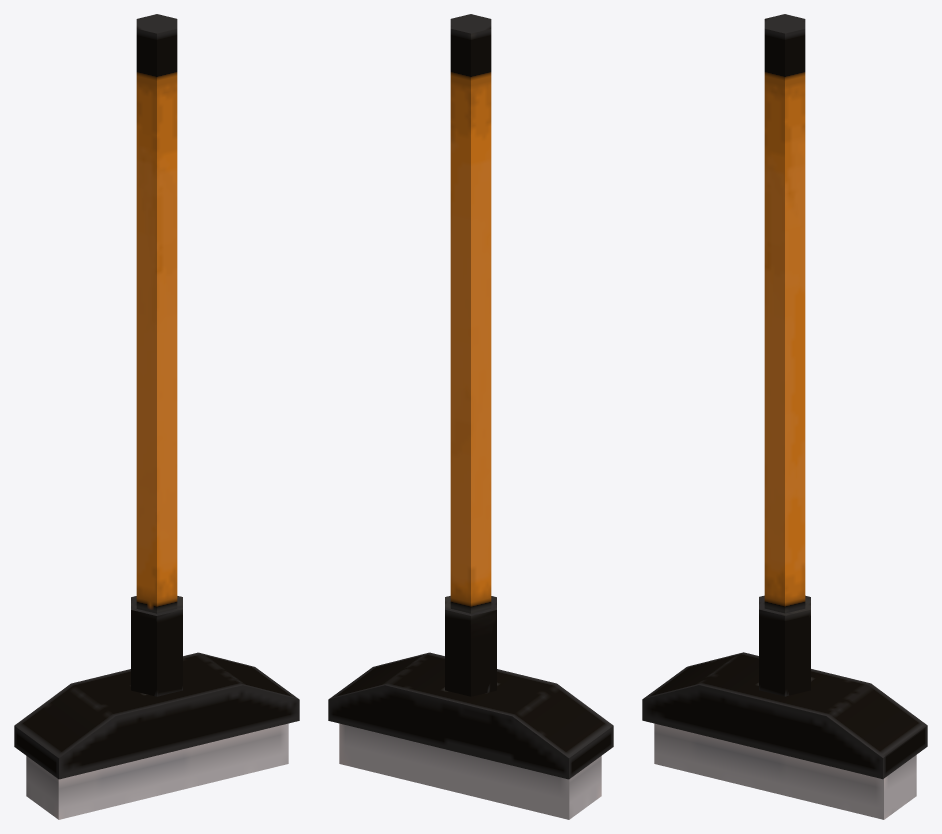
The model's file is Mop 1.fbx.
3 views of the same model, side by side, from view 1: azimuth 30°, elevation 25°; view 2: azimuth 150°, elevation 25°; view 3: azimuth 330°, elevation 25° (orthographic).
Parts seen in each view (by area): view 1: mop; view 2: mop; view 3: mop.
Part boxes in pixels (left/top/right/bottom): mop: left=14, top=14, right=299, bottom=819; mop: left=328, top=14, right=613, bottom=819; mop: left=642, top=14, right=927, bottom=819.
Size of the model in its own units: 256 by 767 by 82.22.
Materials: 1 (1 with a texture image).
